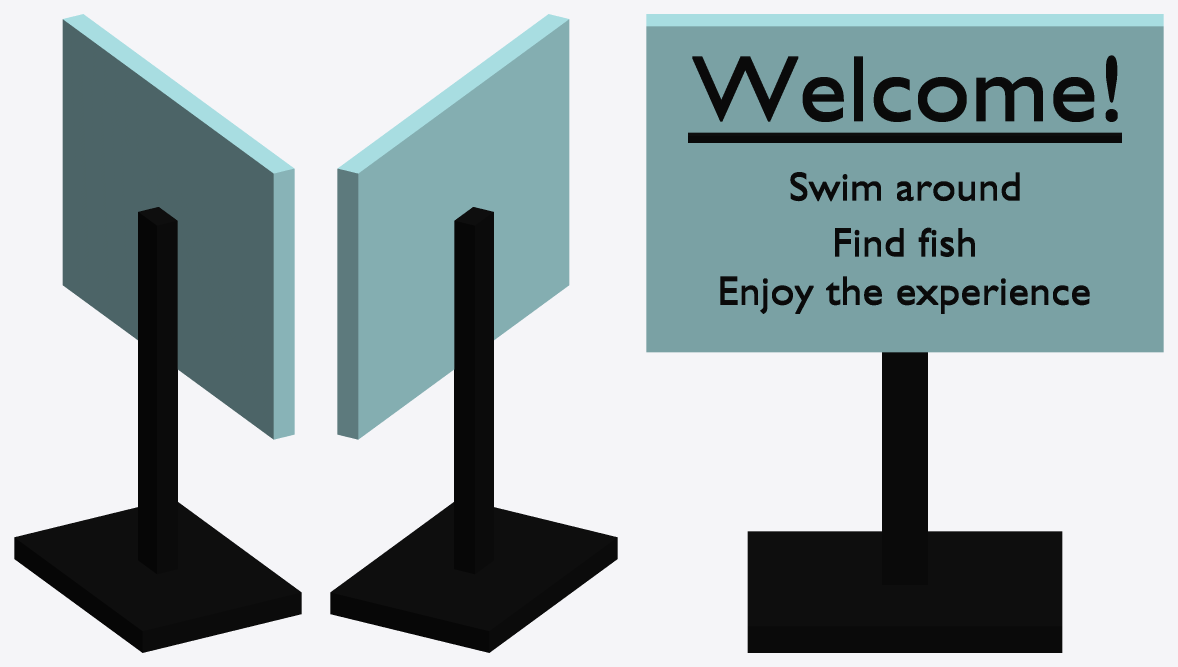
Rendered from sign1.fbx.
3 views of the same model, side by side, from view 1: azimuth 30°, elevation 25°; view 2: azimuth 150°, elevation 25°; view 3: azimuth 270°, elevation 25° (orthographic). The views are drawn at different scales.
Parts seen in each view (by area): view 1: Cube.002, Cube, Cube.001; view 2: Cube.002, Cube, Cube.001; view 3: Cube.002, Cube, Cube.001, Text, Cube.003, Text.003, Text.001, Text.002.
Boxes of the visible parts, left/top/right/bottom form: Cube.002: left=62, top=14, right=294, bottom=439; Cube: left=14, top=502, right=301, bottom=652; Cube.001: left=138, top=207, right=177, bottom=574; Cube.002: left=337, top=14, right=569, bottom=439; Cube: left=330, top=502, right=617, bottom=652; Cube.001: left=454, top=207, right=493, bottom=574; Cube.002: left=646, top=14, right=1163, bottom=352; Cube: left=747, top=531, right=1062, bottom=652; Cube.001: left=882, top=352, right=927, bottom=584; Text: left=692, top=55, right=1117, bottom=121; Cube.003: left=688, top=132, right=1121, bottom=142; Text.003: left=720, top=276, right=1089, bottom=313; Text.001: left=790, top=172, right=1019, bottom=201; Text.002: left=835, top=227, right=974, bottom=256.
Bounding box in the file's own units: 221 × 647 × 508.
